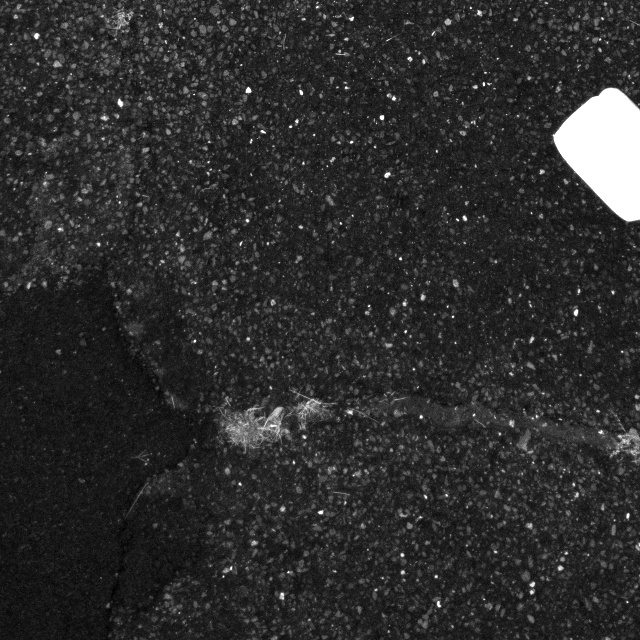can: (545, 73, 640, 247)
